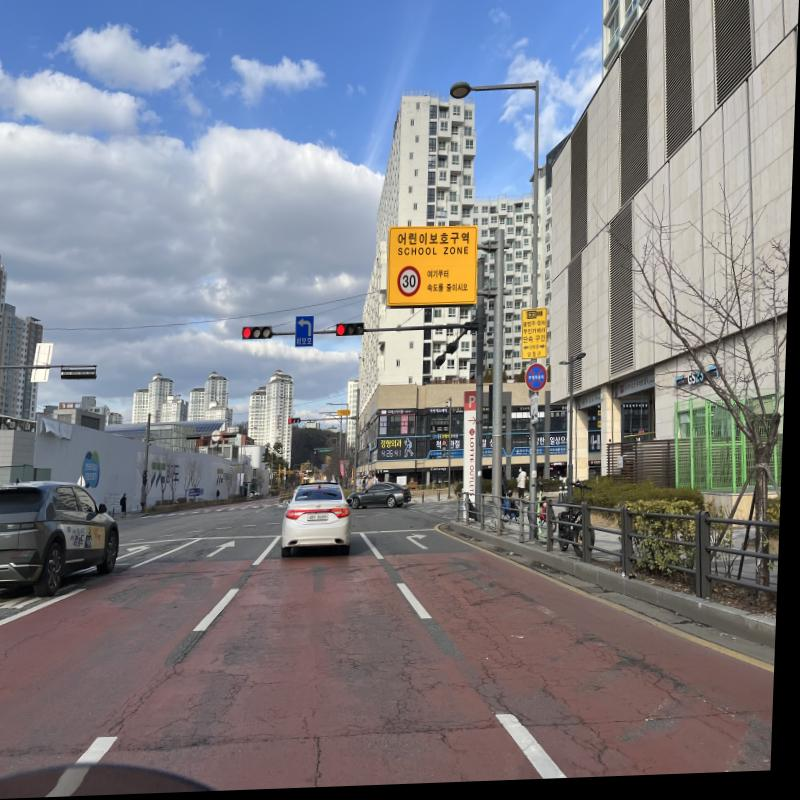red: (245, 329, 255, 342), (339, 326, 349, 338)
